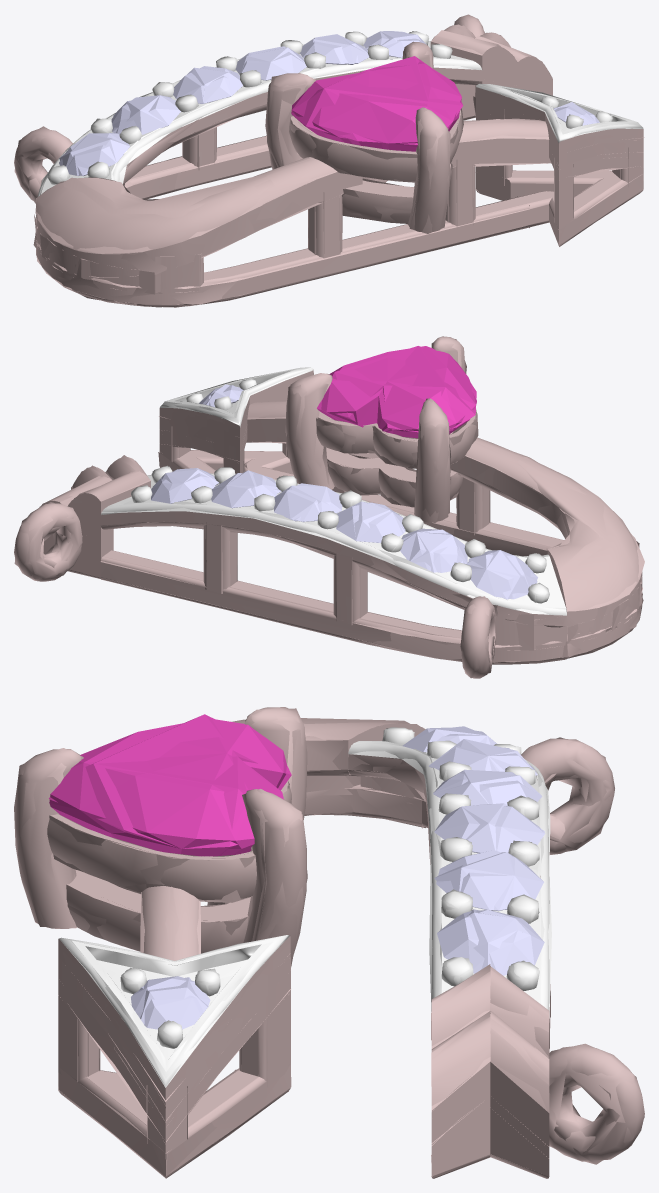
Rendered from DCP-D000733341.glb.
3 renders of one model, top to bottom at view 1: azimuth 30°, elevation 25°; view 2: azimuth 150°, elevation 25°; view 3: azimuth 270°, elevation 25°, orthographic. The views are drawn at different scales.
Visible parts, largest first — view 1: highPolyMesh, lowPolyMesh; view 2: highPolyMesh, lowPolyMesh; view 3: highPolyMesh, lowPolyMesh.
Part boxes in pixels (bbox=[...]): highPolyMesh: bbox=[14, 14, 643, 307]; lowPolyMesh: bbox=[14, 20, 644, 307]; highPolyMesh: bbox=[14, 336, 642, 678]; lowPolyMesh: bbox=[14, 337, 644, 678]; highPolyMesh: bbox=[14, 707, 644, 1178]; lowPolyMesh: bbox=[17, 708, 644, 1176].
Size of the model in its own units: 0.0143 by 0.00443 by 0.00993.
